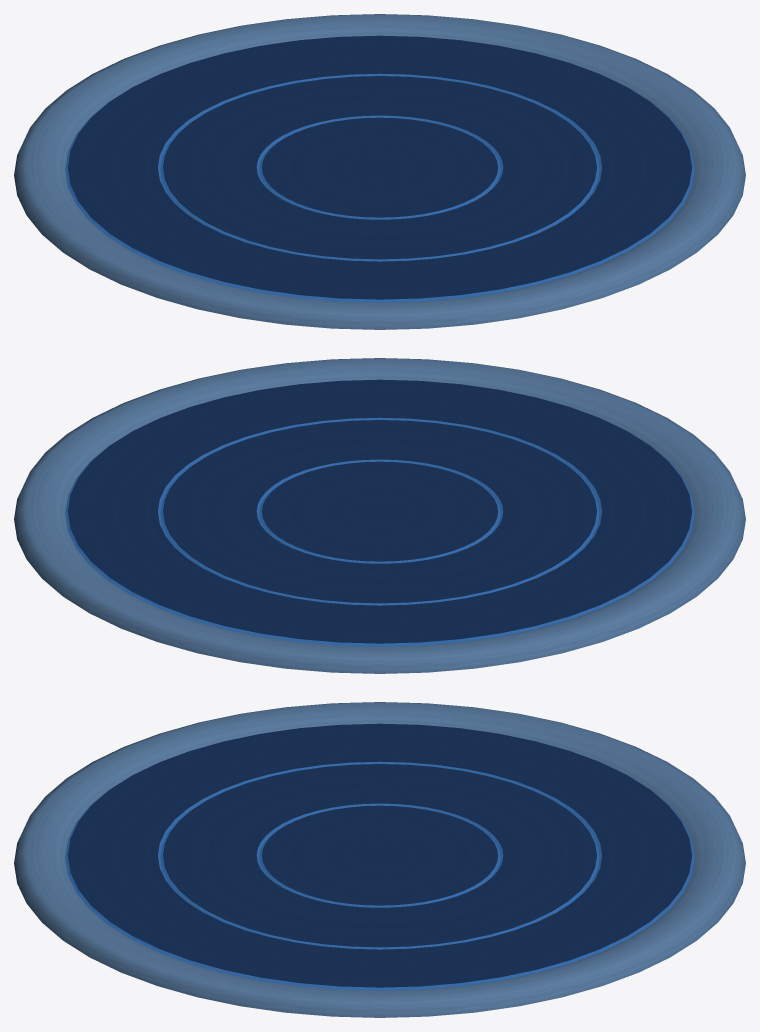
Rendered from creature_editor_room.glb.
3 views of the same model, one above another, from view 1: azimuth 30°, elevation 25°; view 2: azimuth 150°, elevation 25°; view 3: azimuth 270°, elevation 25° (orthographic).
Visible parts, largest first — view 1: CreatureEditorRoom; view 2: CreatureEditorRoom; view 3: CreatureEditorRoom.
Boxes of the visible parts, x1=… form: CreatureEditorRoom: x1=14, y1=14, x2=745, y2=329; CreatureEditorRoom: x1=14, y1=358, x2=745, y2=673; CreatureEditorRoom: x1=14, y1=702, x2=745, y2=1017.
Size of the model in its own units: 2 by 0.047 by 2.
Materials: 3 (3 with a texture image).
